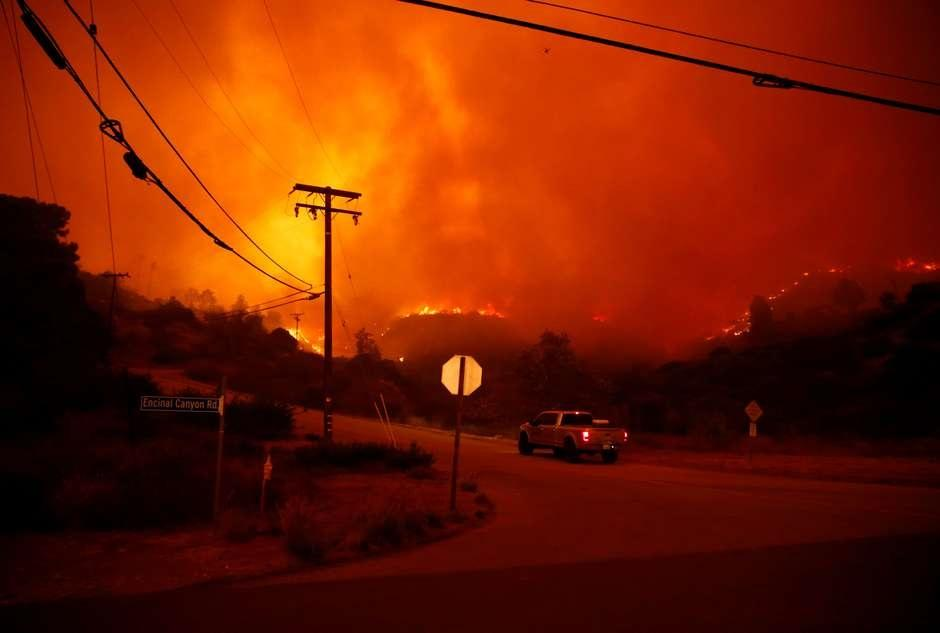fire: (305, 138, 423, 192), (247, 205, 315, 298), (282, 317, 330, 345)
